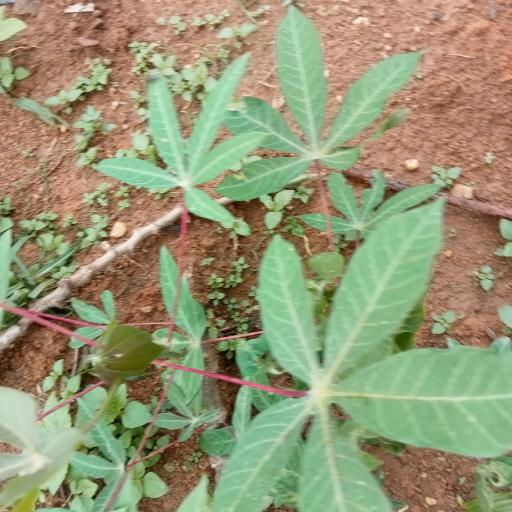Cassava_Mosaic: (250, 222, 512, 512), (102, 61, 253, 230)
